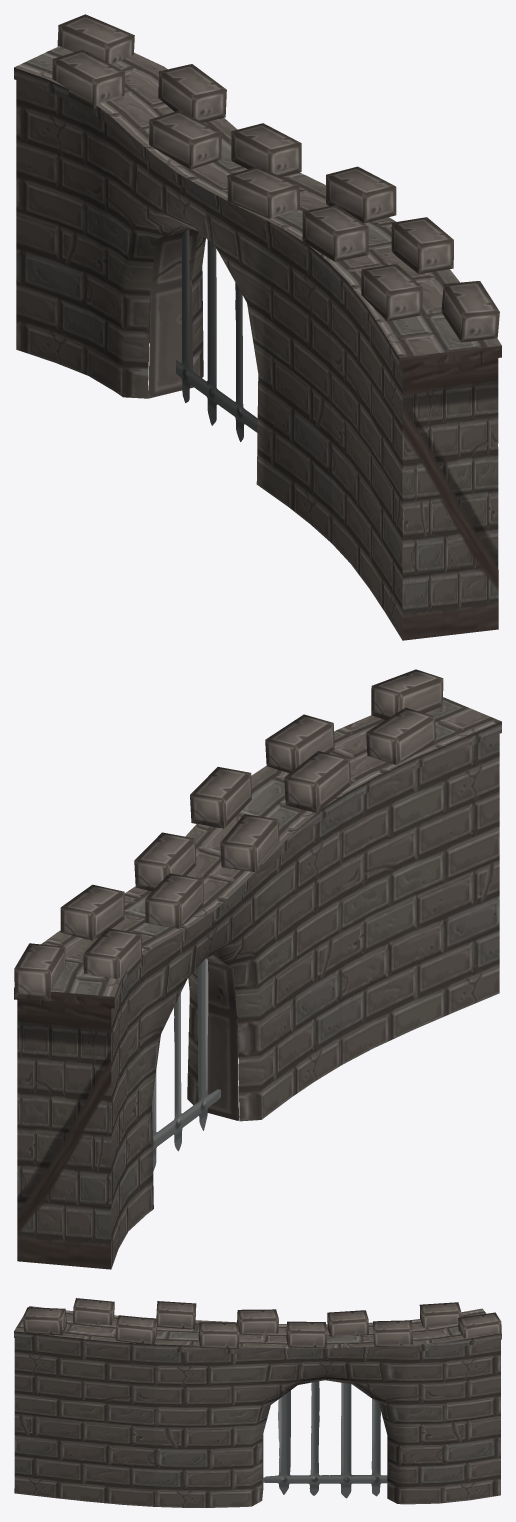
Rendered from GateV2_breakable.fbx.
3 renders of one model, top to bottom at view 1: azimuth 30°, elevation 25°; view 2: azimuth 150°, elevation 25°; view 3: azimuth 270°, elevation 25°, orthographic. The views are drawn at different scales.
Parts seen in each view (by area): view 1: polySurface127, polySurface166, polySurface136, polySurface129, polySurface137, polySurface134, polySurface131, polySurface130, polySurface132, polySurface135, polySurface128, polySurface133 (+1 smaller); view 2: polySurface127, polySurface166, polySurface134, polySurface129, polySurface133, polySurface128, polySurface131, polySurface132, polySurface135, polySurface136, polySurface130, polySurface139 (+1 smaller); view 3: polySurface127, polySurface166, polySurface132, polySurface129, polySurface128, polySurface130, polySurface134, polySurface136, polySurface133, polySurface131, polySurface135, polySurface137 (+1 smaller).
Part boxes in pixels (x1=…): polySurface127: x1=14, y1=46, x2=501, y2=640; polySurface166: x1=176, y1=229, x2=257, y2=441; polySurface136: x1=149, y1=110, x2=221, y2=169; polySurface129: x1=326, y1=166, x2=396, y2=223; polySurface137: x1=52, y1=49, x2=125, y2=109; polySurface134: x1=302, y1=204, x2=368, y2=261; polySurface131: x1=158, y1=64, x2=226, y2=122; polySurface130: x1=231, y1=123, x2=301, y2=176; polySurface132: x1=441, y1=281, x2=499, y2=342; polySurface135: x1=227, y1=166, x2=299, y2=218; polySurface128: x1=391, y1=217, x2=453, y2=273; polySurface133: x1=361, y1=264, x2=422, y2=321; polySurface127: x1=14, y1=697, x2=501, y2=1269; polySurface166: x1=152, y1=958, x2=220, y2=1170; polySurface134: x1=284, y1=751, x2=350, y2=812; polySurface129: x1=190, y1=767, x2=251, y2=828; polySurface133: x1=366, y1=707, x2=436, y2=764; polySurface128: x1=265, y1=714, x2=334, y2=773; polySurface131: x1=60, y1=884, x2=124, y2=940; polySurface132: x1=371, y1=669, x2=443, y2=719; polySurface135: x1=220, y1=814, x2=279, y2=875; polySurface136: x1=145, y1=873, x2=203, y2=928; polySurface130: x1=134, y1=832, x2=196, y2=891; polySurface139: x1=14, y1=943, x2=65, y2=1000; polySurface127: x1=14, y1=1306, x2=501, y2=1507; polySurface166: x1=262, y1=1381, x2=387, y2=1498; polySurface132: x1=23, y1=1307, x2=66, y2=1335; polySurface129: x1=198, y1=1322, x2=239, y2=1349; polySurface128: x1=115, y1=1315, x2=157, y2=1344; polySurface130: x1=286, y1=1321, x2=327, y2=1347; polySurface134: x1=156, y1=1301, x2=196, y2=1329; polySurface136: x1=327, y1=1310, x2=368, y2=1337; polySurface133: x1=73, y1=1298, x2=114, y2=1325; polySurface131: x1=373, y1=1320, x2=412, y2=1346; polySurface135: x1=237, y1=1309, x2=278, y2=1333; polySurface137: x1=419, y1=1302, x2=461, y2=1327.
Bounding box in the file's own units: 1.69 × 3.73 × 8.51.
